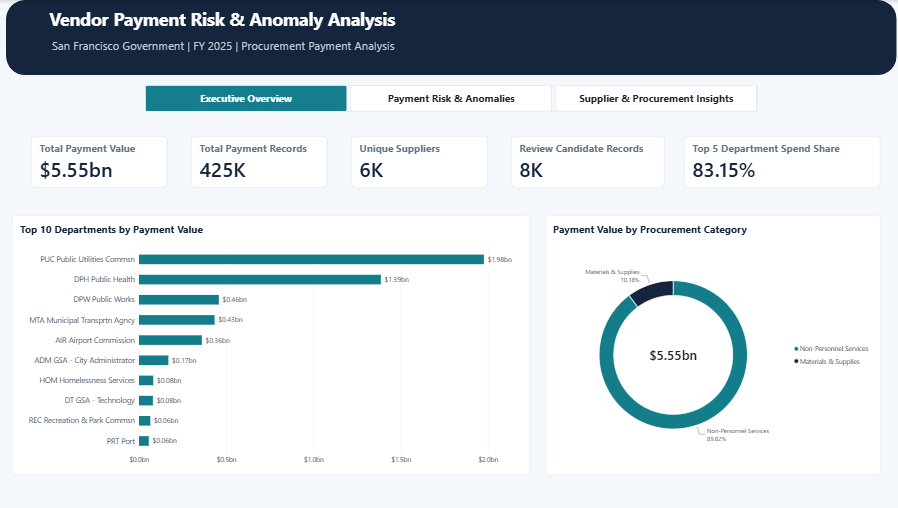

The dashboard page shown, as its layout file describes it:
{"tool":"powerbi","page":{"name":"Executive Overview","canvas":[1920,1080],"ordinal":0},"visuals":[{"type":"shape","box":[13.2,0,1893.6,159.6],"z":0},{"type":"textbox","box":[25.5,14.9,893.6,55.3],"z":1000},{"type":"textbox","box":[110.6,80.9,1527.7,61.7],"z":2000},{"type":"pageNavigator","box":[308.4,180.7,1303.2,57.4],"z":3000},{"type":"cardVisual","fields":{"Data":["vendor_payment_analysis.Total Payment Value"]},"box":[65.9,289.1,290,110],"z":4000},{"type":"cardVisual","fields":{"Data":["vendor_payment_analysis.Total Payment Records"]},"box":[406.2,289,290,110],"z":5000},{"type":"cardVisual","fields":{"Data":["vendor_payment_analysis.Unique Suppliers"]},"box":[746.2,289.1,291.3,110.6],"z":6000},{"type":"cardVisual","fields":{"Data":["vendor_payment_analysis.Review Candidate Records"]},"box":[1086.4,289.1,327.4,110.6],"z":7000},{"type":"clusteredBarChart","title":"Top 10 Departments by Payment Value","fields":{"Category":["vendor_payment_analysis.Department"],"Y":["vendor_payment_analysis.Total Payment Value"]},"box":[25.5,457.1,1101.3,552.8],"z":8000},{"type":"donutChart","title":"Payment Value by Procurement Category","fields":{"Category":["vendor_payment_analysis.Character"],"Y":["vendor_payment_analysis.Total Payment Value"]},"box":[1158.7,457.1,714.3,552.8],"z":9000},{"type":"cardVisual","fields":{"Data":["vendor_payment_analysis.Top 5 Department Spend Share"]},"box":[1454.2,289.1,418.8,110.6],"z":10000}]}

Visuals, with their boxes in screenshot pixels (x1, y1, x2, y2), scaled from the page's 1920x1080 canvas onto the 898x508 screenshot:
shape: [6,0,892,75]
textbox: [12,7,430,33]
textbox: [52,38,766,67]
pageNavigator: [144,85,754,112]
cardVisual - vendor_payment_analysis.Total Payment Value: [31,136,166,188]
cardVisual - vendor_payment_analysis.Total Payment Records: [190,136,326,188]
cardVisual - vendor_payment_analysis.Unique Suppliers: [349,136,485,188]
cardVisual - vendor_payment_analysis.Review Candidate Records: [508,136,661,188]
"Top 10 Departments by Payment Value" clusteredBarChart: [12,215,527,475]
"Payment Value by Procurement Category" donutChart: [542,215,876,475]
cardVisual - vendor_payment_analysis.Top 5 Department Spend Share: [680,136,876,188]
